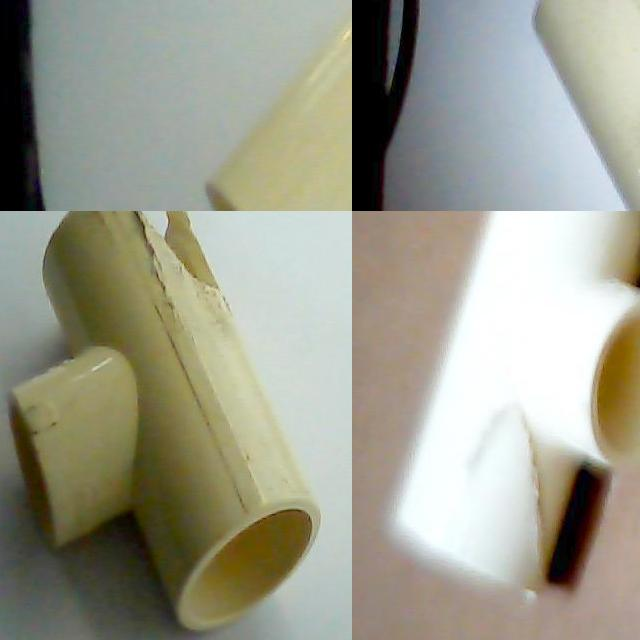Defective: (472, 378, 572, 588), (117, 211, 225, 292), (603, 211, 640, 283)
T Joint: (8, 211, 323, 635), (387, 211, 640, 598), (203, 6, 352, 211)
